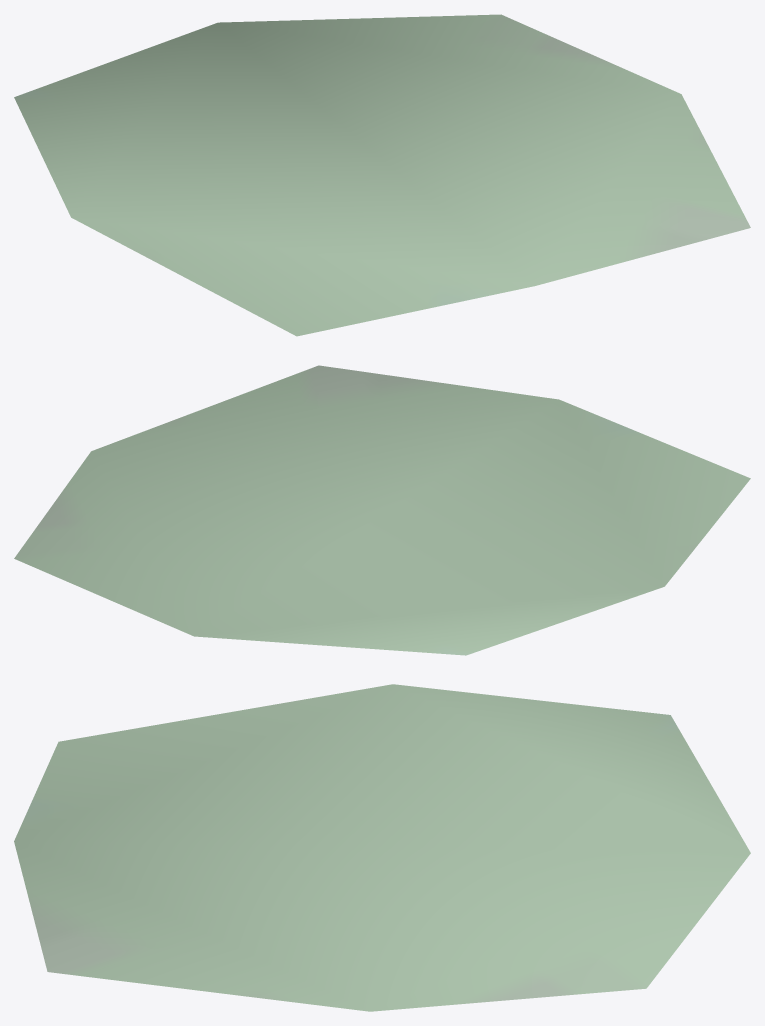
Rendered from TROLLHOLE02_HOLECAP214.fbx.
3 views of the same model, one above another, from view 1: azimuth 30°, elevation 25°; view 2: azimuth 150°, elevation 25°; view 3: azimuth 270°, elevation 25° (orthographic). The views are drawn at different scales.
Parts seen in each view (by area): view 1: TROLLHOLE02_HOLECAP214; view 2: TROLLHOLE02_HOLECAP214; view 3: TROLLHOLE02_HOLECAP214.
Boxes of the visible parts, x1,y1,x2,y2 form: TROLLHOLE02_HOLECAP214: [14, 14, 750, 336]; TROLLHOLE02_HOLECAP214: [14, 365, 750, 655]; TROLLHOLE02_HOLECAP214: [14, 684, 750, 1011].
Bounding box in the file's own units: 13142 × 575 × 13140.
Materials: 1 (1 with a texture image).
